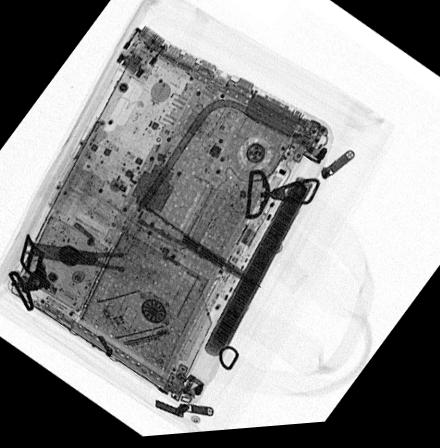Scissors: (131, 199, 263, 297), (21, 237, 131, 275)
